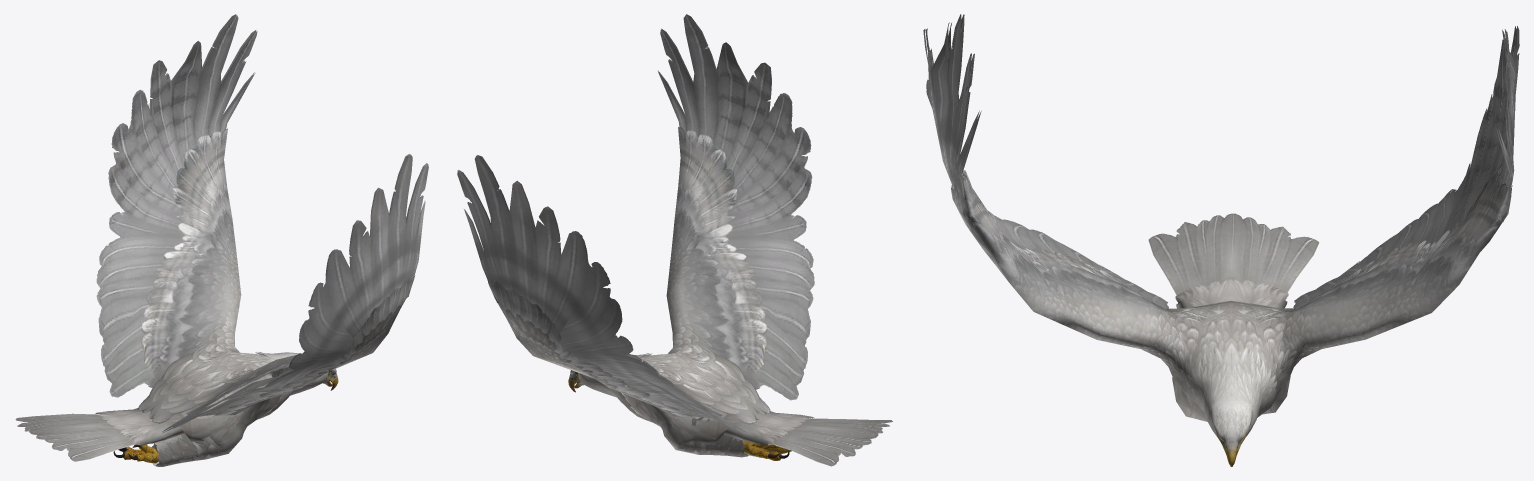
The model's file is eagle.fbx.
The picture shows the model from 3 angles, left to right: view 1: azimuth 30°, elevation 25°; view 2: azimuth 150°, elevation 25°; view 3: azimuth 270°, elevation 25°; orthographic projection. The views are drawn at different scales.
Parts seen in each view (by area): view 1: White_Eagle; view 2: White_Eagle; view 3: White_Eagle.
Boxes of the visible parts, bbox=[...] form: White_Eagle: bbox=[15, 14, 428, 466]; White_Eagle: bbox=[457, 14, 892, 466]; White_Eagle: bbox=[923, 14, 1519, 466].
Size of the model in its own units: 35.33 by 34.82 by 38.97.
1 material, 1 textured.
